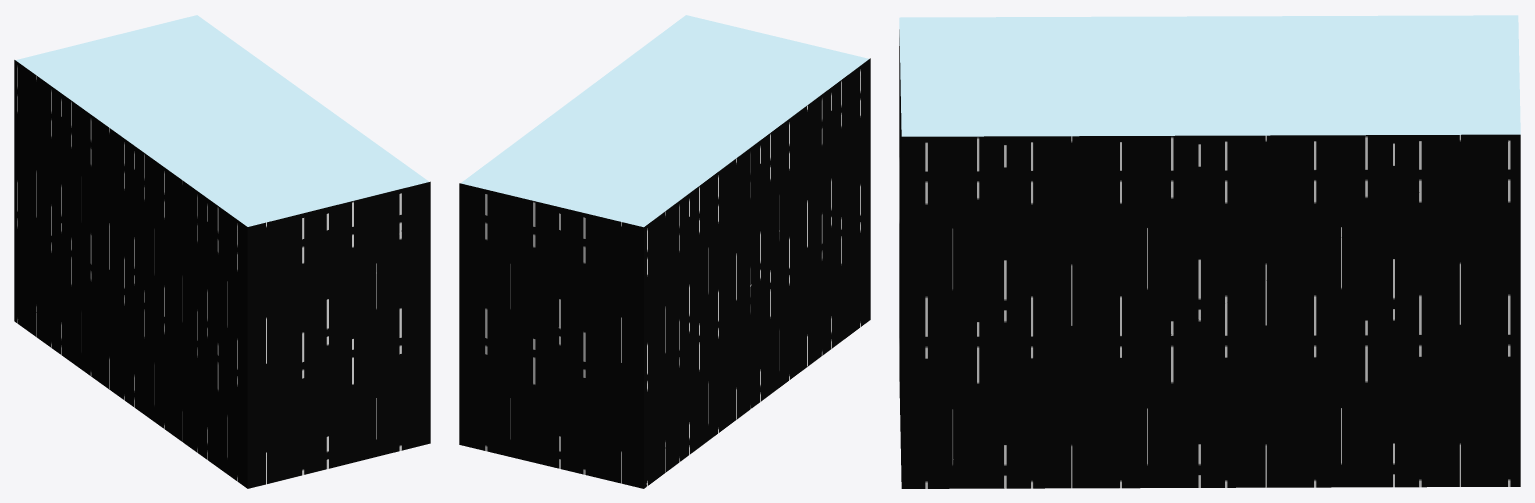
The picture shows the model from 3 angles, left to right: view 1: azimuth 30°, elevation 25°; view 2: azimuth 150°, elevation 25°; view 3: azimuth 270°, elevation 25°; orthographic projection. The views are drawn at different scales.
Parts seen in each view (by area): view 1: wall-line, top; view 2: wall-line, top; view 3: wall-line, top.
Part boxes in pixels (<box>): wall-line: <box>14,60,430,488</box>; top: <box>16,16,428,226</box>; wall-line: <box>459,58,870,488</box>; top: <box>462,15,867,226</box>; wall-line: <box>899,29,1520,488</box>; top: <box>900,16,1519,135</box>.
Bounding box in the file's own units: 31.03 × 41.51 × 66.39.
3 materials, 2 textured.
